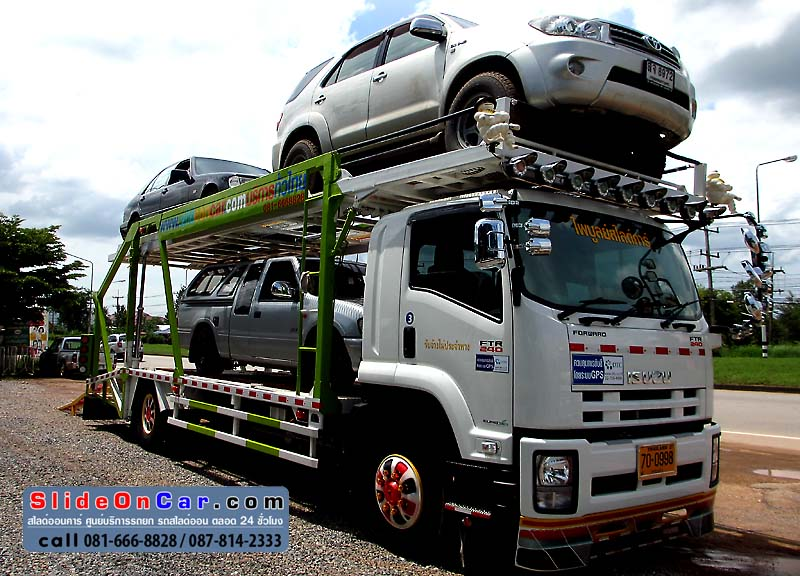truck: (366, 203, 720, 551)
